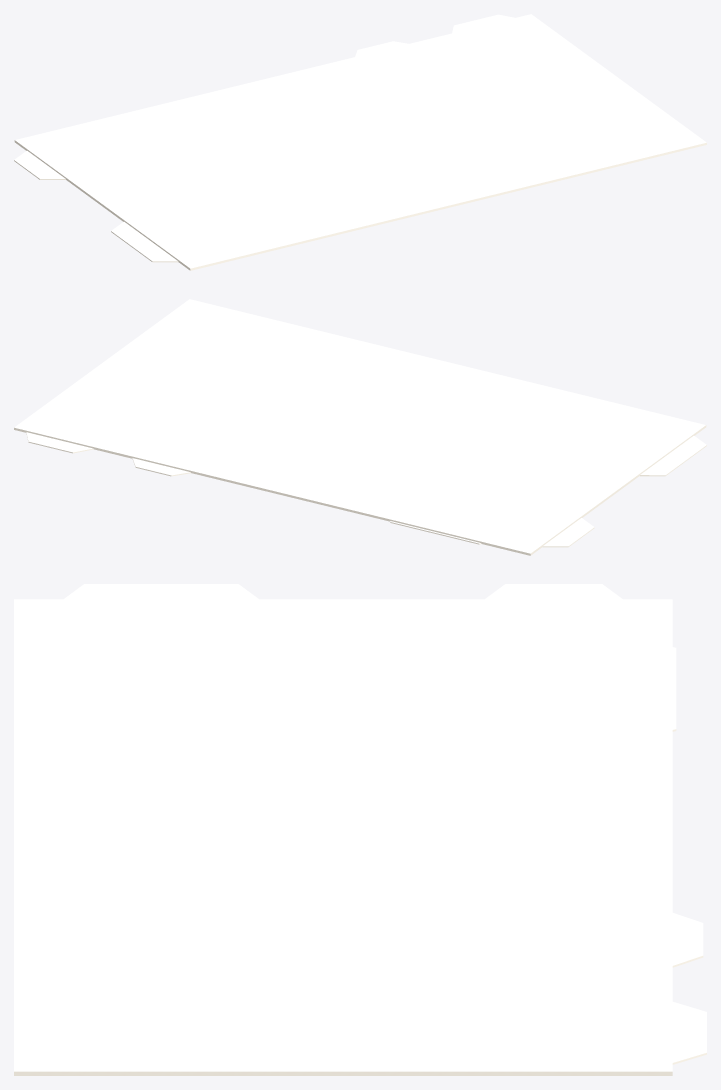
The model's file is apartment-ceiling.glb.
3 renders of one model, top to bottom at view 1: azimuth 30°, elevation 25°; view 2: azimuth 150°, elevation 25°; view 3: azimuth 270°, elevation 25°, orthographic. The views are drawn at different scales.
Visible parts, largest first — view 1: Plaster soffit bearing on perimeter and partitions, Bedroom south bay soffit, Master south bay soffit, Dining bay soffit; view 2: Plaster soffit bearing on perimeter and partitions, Bedroom south bay soffit, Master south bay soffit, Dining bay soffit, Sink bay soffit; view 3: Plaster soffit bearing on perimeter and partitions, Bedroom south bay soffit, Master south bay soffit, Dining bay soffit, Sink bay soffit.
Boxes of the visible parts, x1,y1,x2,y2 form: Plaster soffit bearing on perimeter and partitions: (14,14,706,270); Bedroom south bay soffit: (111,222,178,262); Master south bay soffit: (14,151,65,179); Dining bay soffit: (452,14,514,33); Plaster soffit bearing on perimeter and partitions: (14,299,706,555); Bedroom south bay soffit: (640,436,706,476); Master south bay soffit: (542,518,594,547); Dining bay soffit: (26,432,93,453); Sink bay soffit: (132,458,190,476); Plaster soffit bearing on perimeter and partitions: (14,599,672,1075); Bedroom south bay soffit: (64,584,258,599); Master south bay soffit: (485,584,622,599); Dining bay soffit: (672,1002,706,1064); Sink bay soffit: (672,913,703,967).
Size of the model in its own units: 30.3 by 0.157 by 18.1.
Materials: 3 (1 with a texture image).
